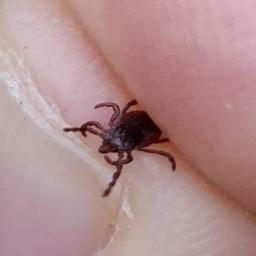Rhipicephalus sanguineus: (62, 99, 178, 198)
